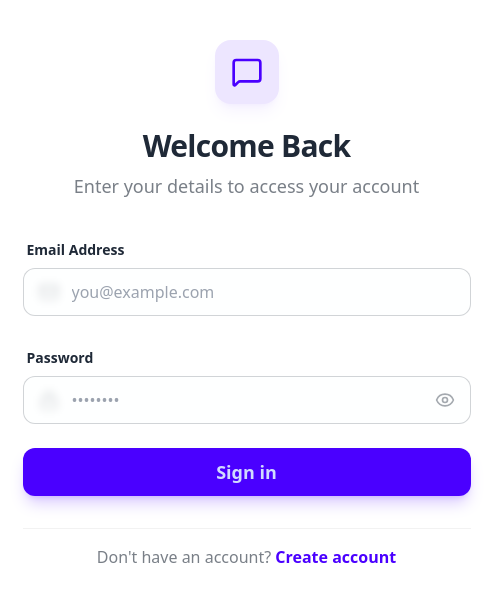
Test case: LoginPage › shows validation errors when fields are empty on submit
# Simulate user clicking submit without typing anything
Step 1. Click the button "Sign in" → x=246, y=472, box [22,448,470,496]
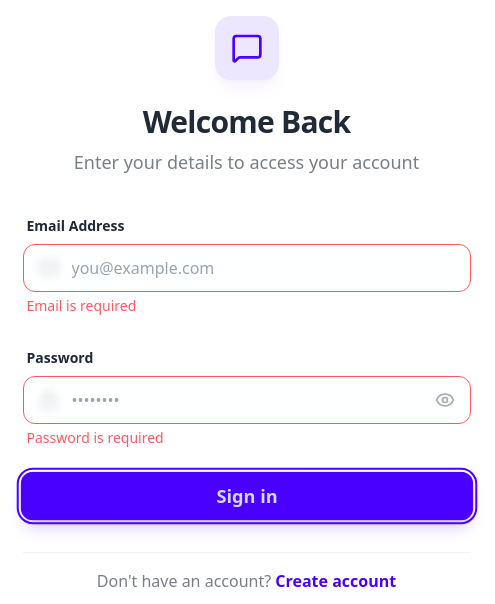
expect the text "Email is required" is shown: met, box [26,296,136,314]
expect the text "Password is required" is shown: met, box [26,428,164,446]
